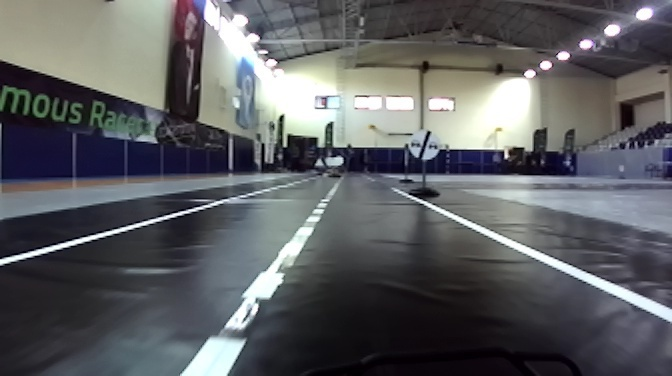sollama_serbest: (406, 129, 440, 163)
